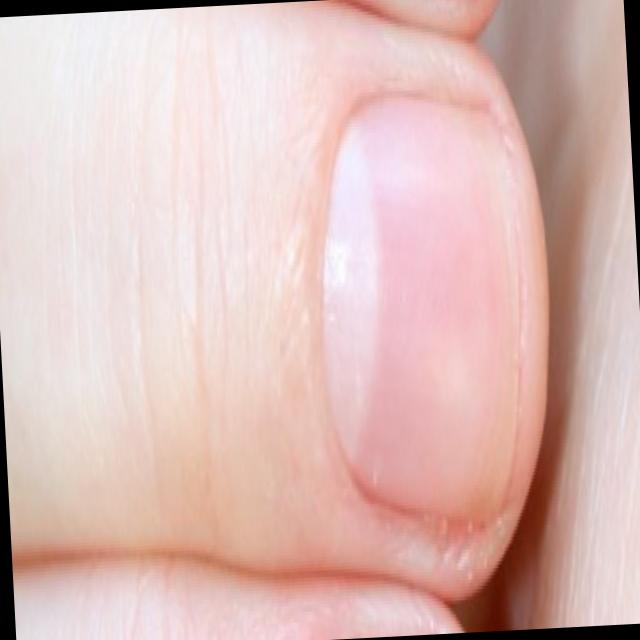Nail: (323, 96, 520, 519)
